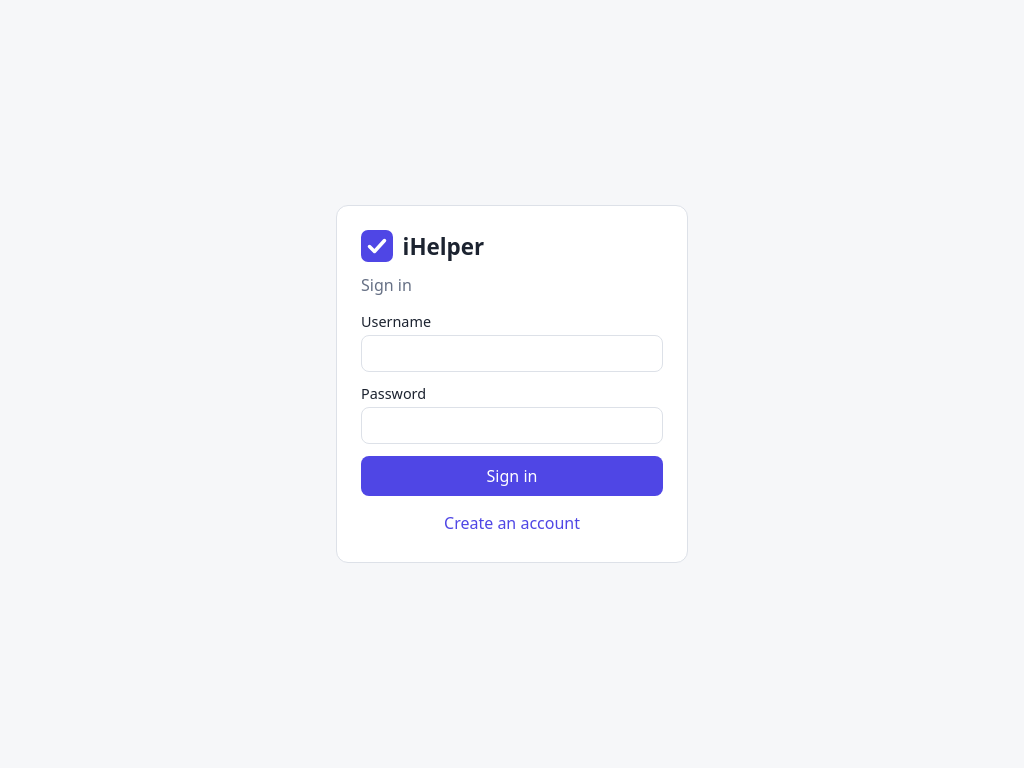
Test: AuthGate › registers with an invite code
Click the button "Create an account" at point(512, 523), box [361,508,663,538]
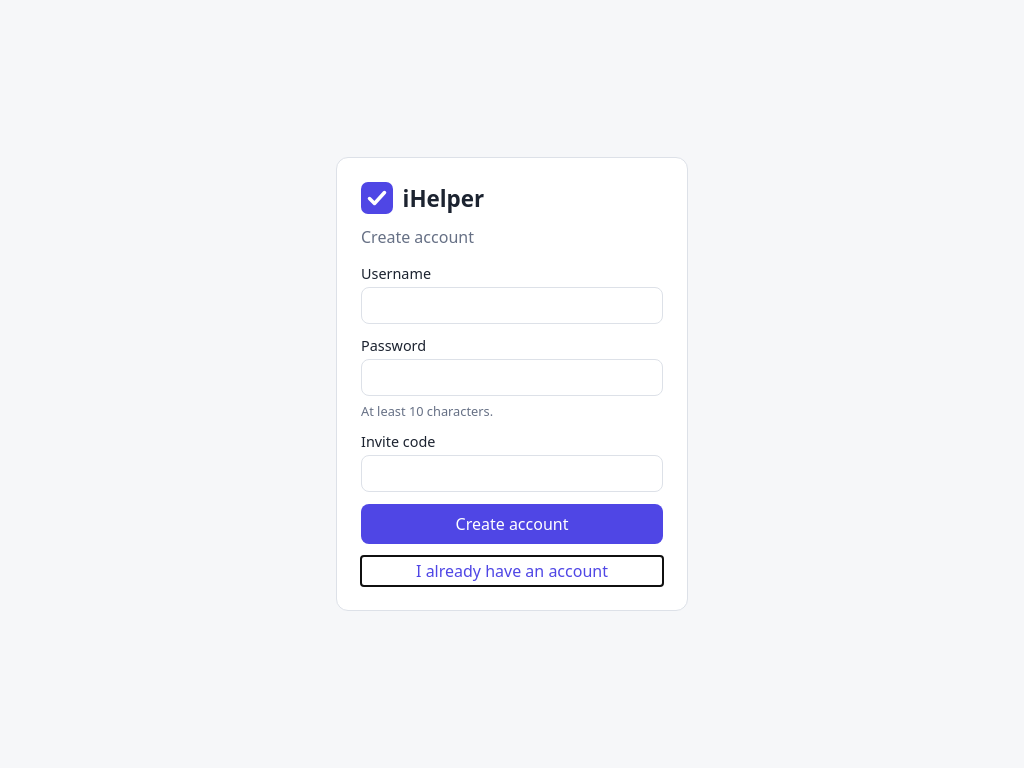
Type "newuser" into the field labelled "Username" at point(512, 306), box [361,287,663,324]
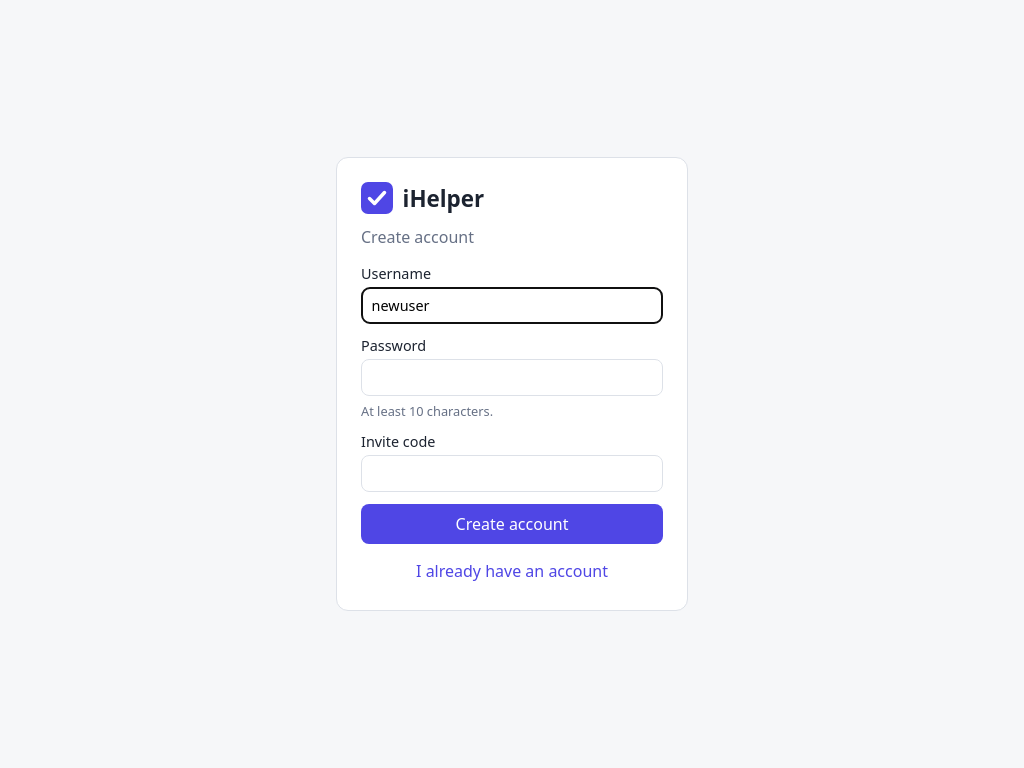
Type "correct-horse-battery" into the password field labelled "Password" at point(512, 378), box [361,359,663,396]
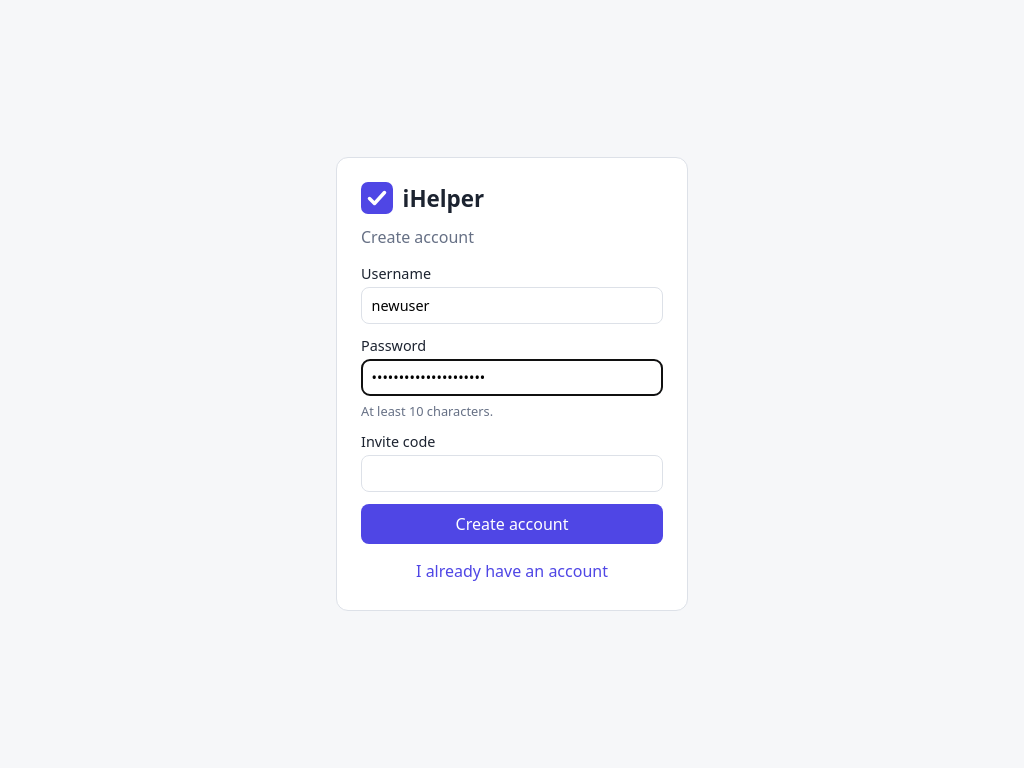
Type "welcome" into the field labelled "Invite code" at point(512, 474), box [361,455,663,492]
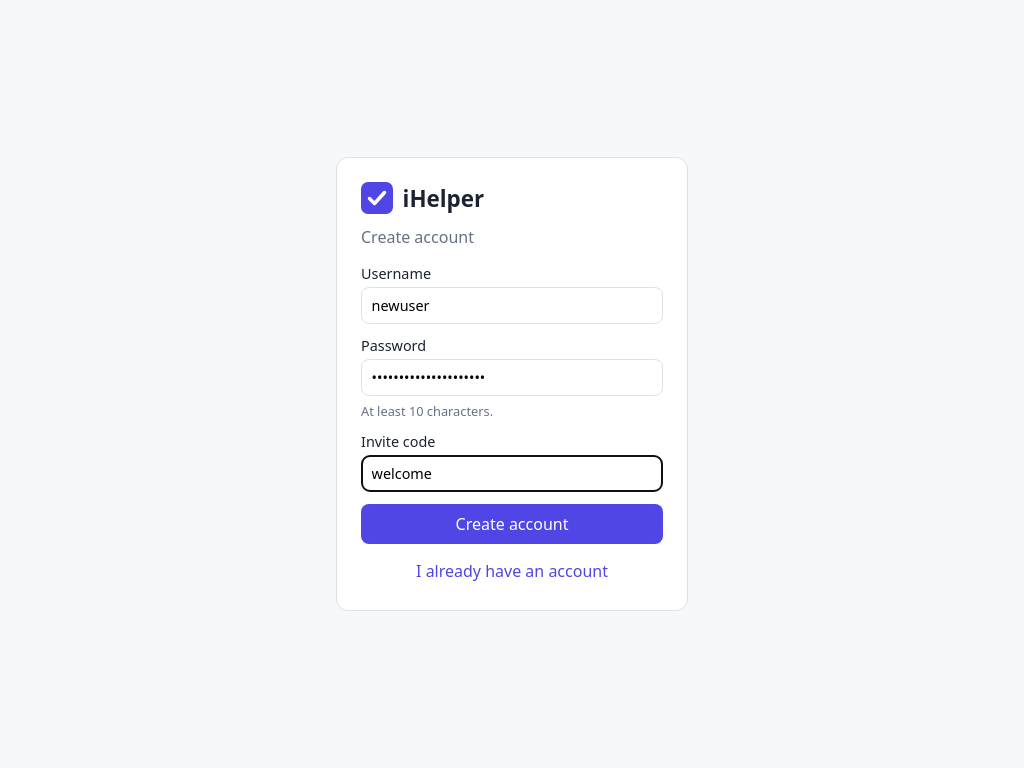
Click the button "Create account" at point(512, 524), box [361,504,663,544]
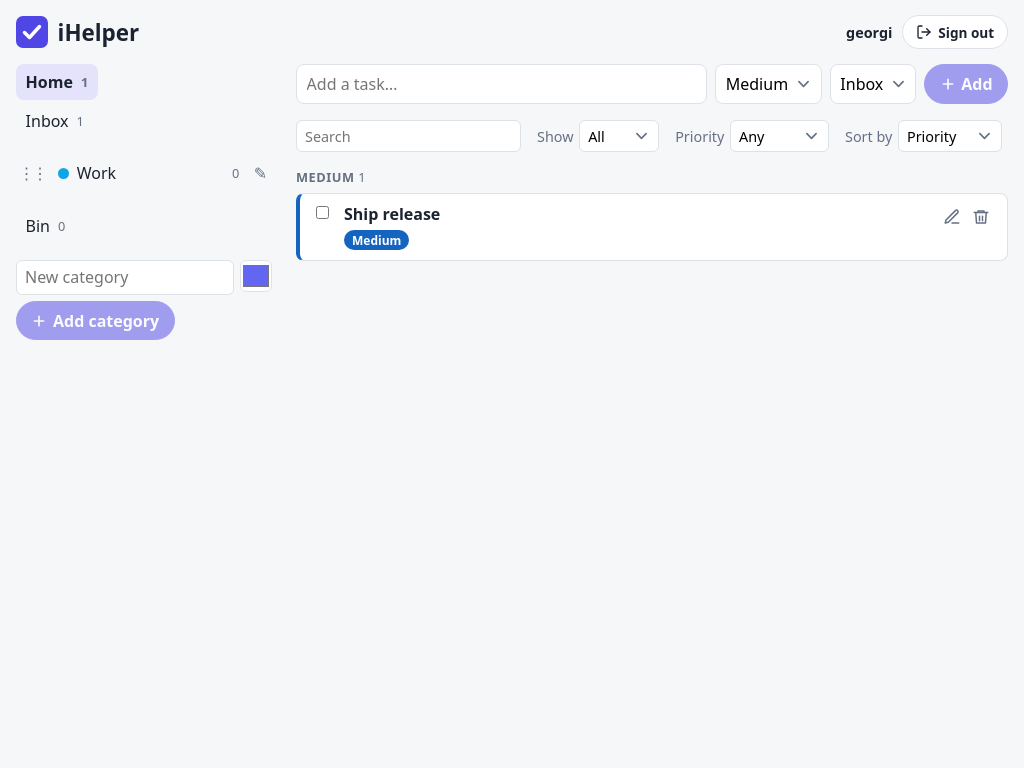
Result: the button "Ship release" is shown at [344,203,440,225]
